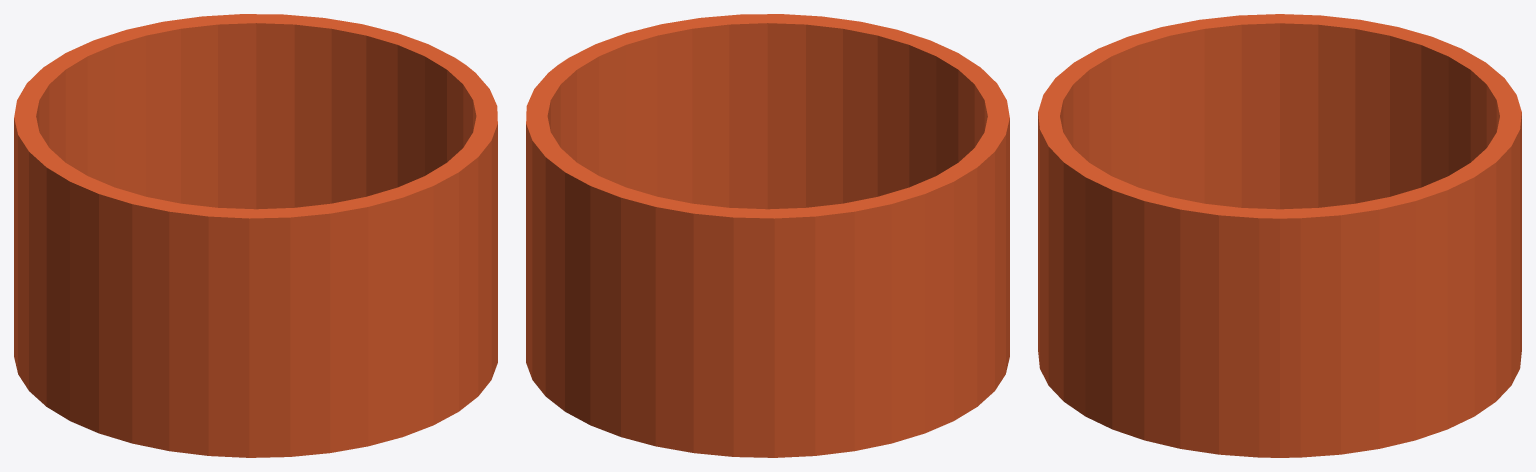
The model's file is cubePlacing.dae.
3 renders of one model, left to right at view 1: azimuth 30°, elevation 25°; view 2: azimuth 150°, elevation 25°; view 3: azimuth 270°, elevation 25°, orthographic.
Parts seen in each view (by area): view 1: node; view 2: node; view 3: node.
Boxes of the visible parts, x1=… form: node: x1=14, y1=14, x2=497, y2=457; node: x1=526, y1=14, x2=1009, y2=457; node: x1=1038, y1=14, x2=1521, y2=457.
Bounding box in the file's own units: 0.11 × 0.1099 × 0.06.
